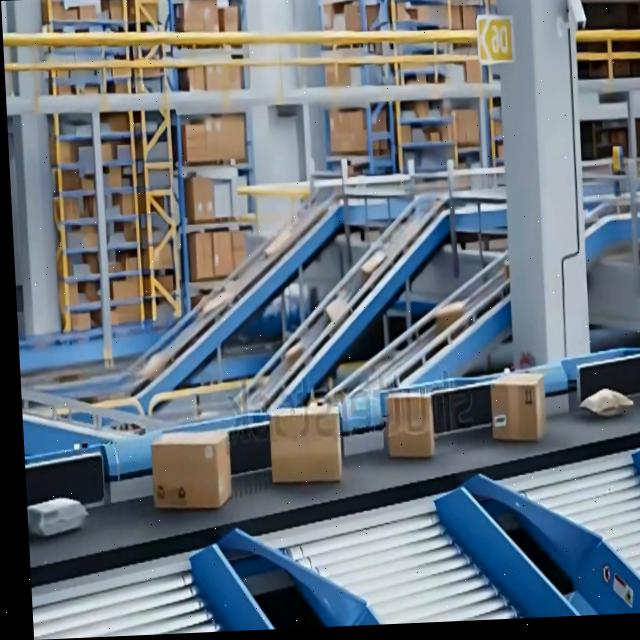product 1: (267, 399, 343, 484), (179, 427, 233, 509), (488, 370, 548, 442), (384, 390, 436, 458)
